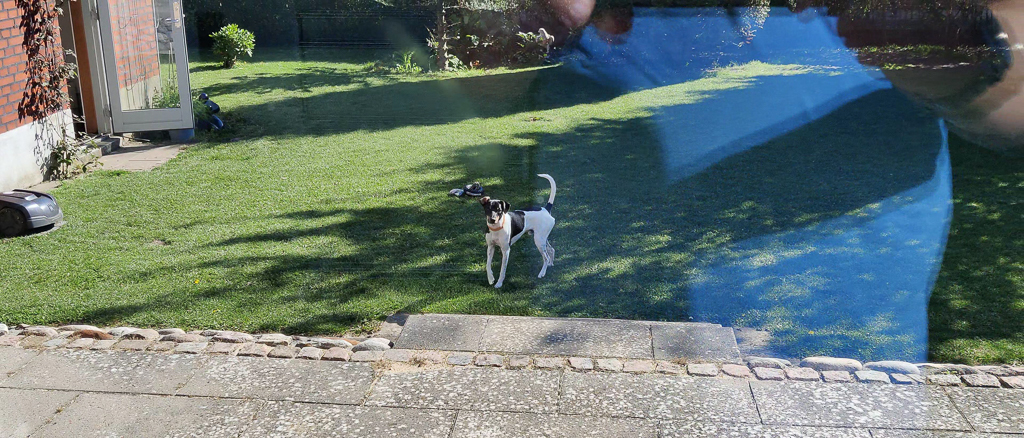Dog: (474, 170, 565, 295)
Eagle: (533, 26, 557, 58)
Humanoid: (185, 88, 228, 136)
